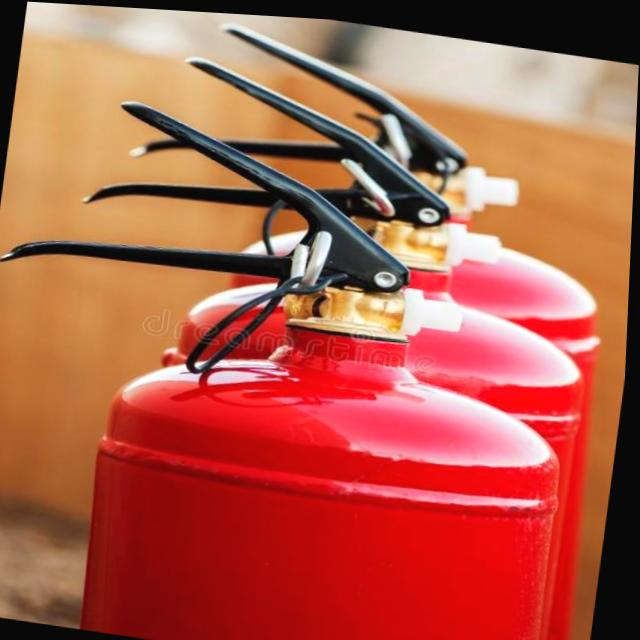FireExtinguisher: (19, 32, 639, 640), (63, 4, 640, 640), (0, 74, 614, 640)
